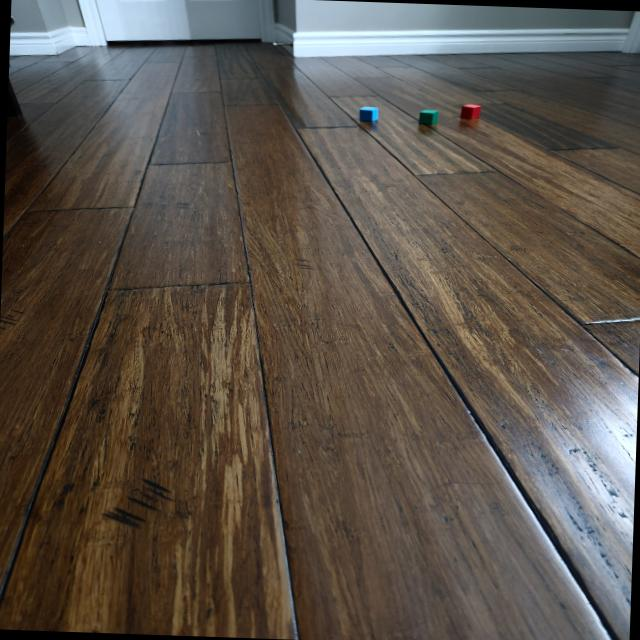bluecube: (358, 105, 378, 122)
green cube: (419, 108, 438, 124)
red cube: (461, 104, 480, 118)
